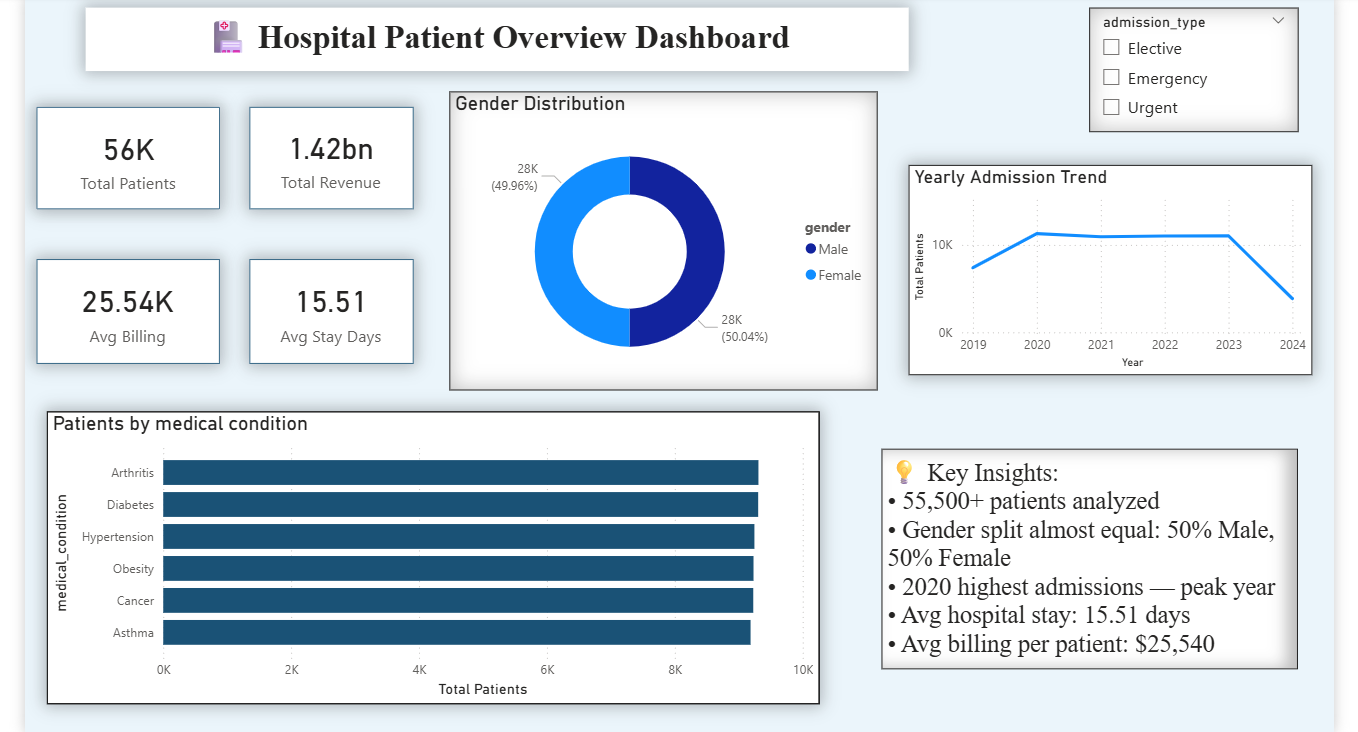

What the dashboard file says about the page in this screenshot:
{"tool":"powerbi","page":{"name":"Hospital Overview","canvas":[1280,720],"ordinal":0},"visuals":[{"type":"card","fields":{"Values":["public patients.Total Patients"]},"box":[11.5,108.7,179.1,99.8],"z":0},{"type":"card","fields":{"Values":["public patients.Total Revenue"]},"box":[219.4,108.5,160.2,99.6],"z":1},{"type":"card","fields":{"Values":["public patients.Avg Billing"]},"box":[11.4,257.3,179.1,102.2],"z":2},{"type":"card","fields":{"Values":["public patients.Avg Stay Days"]},"box":[219.4,257.3,160.2,102.2],"z":3},{"type":"clusteredBarChart","title":"Patients by medical condition","fields":{"Category":["public patients.medical_condition"],"Y":["public patients.Total Patients"]},"box":[21.4,406.1,755.4,286.3],"z":4},{"type":"donutChart","title":"Gender Distribution","fields":{"Category":["public patients.gender"],"Y":["public patients.Total Patients"]},"box":[414.9,93.3,418.7,292.6],"z":5},{"type":"lineChart","title":" Yearly Admission Trend","fields":{"Category":["public patients.date_of_admission.Variation.Date Hierarchy.Year"],"Y":["public patients.Total Patients"]},"box":[863.9,165.2,394.7,205.6],"z":6},{"type":"slicer","fields":{"Values":["public patients.admission_type"]},"box":[1039.9,11.5,204.6,121.5],"z":7},{"type":"textbox","box":[837.4,442.7,407.3,215.7],"z":8},{"type":"textbox","box":[59.3,11.4,804.6,61.8],"z":9}]}

Visuals, with their boxes on the page's 1280x720 design canvas (x1, y1, x2, y2). These are canvas units, not pixel positions in the 1358x732 screenshot, which may show the page scaled, cropped or inside an application window:
card - public patients.Total Patients: locate(12, 109, 191, 208)
card - public patients.Total Revenue: locate(219, 108, 380, 208)
card - public patients.Avg Billing: locate(11, 257, 190, 360)
card - public patients.Avg Stay Days: locate(219, 257, 380, 360)
"Patients by medical condition" clusteredBarChart: locate(21, 406, 777, 692)
"Gender Distribution" donutChart: locate(415, 93, 834, 386)
" Yearly Admission Trend" lineChart: locate(864, 165, 1259, 371)
slicer - public patients.admission_type: locate(1040, 12, 1244, 133)
textbox: locate(837, 443, 1245, 658)
textbox: locate(59, 11, 864, 73)
